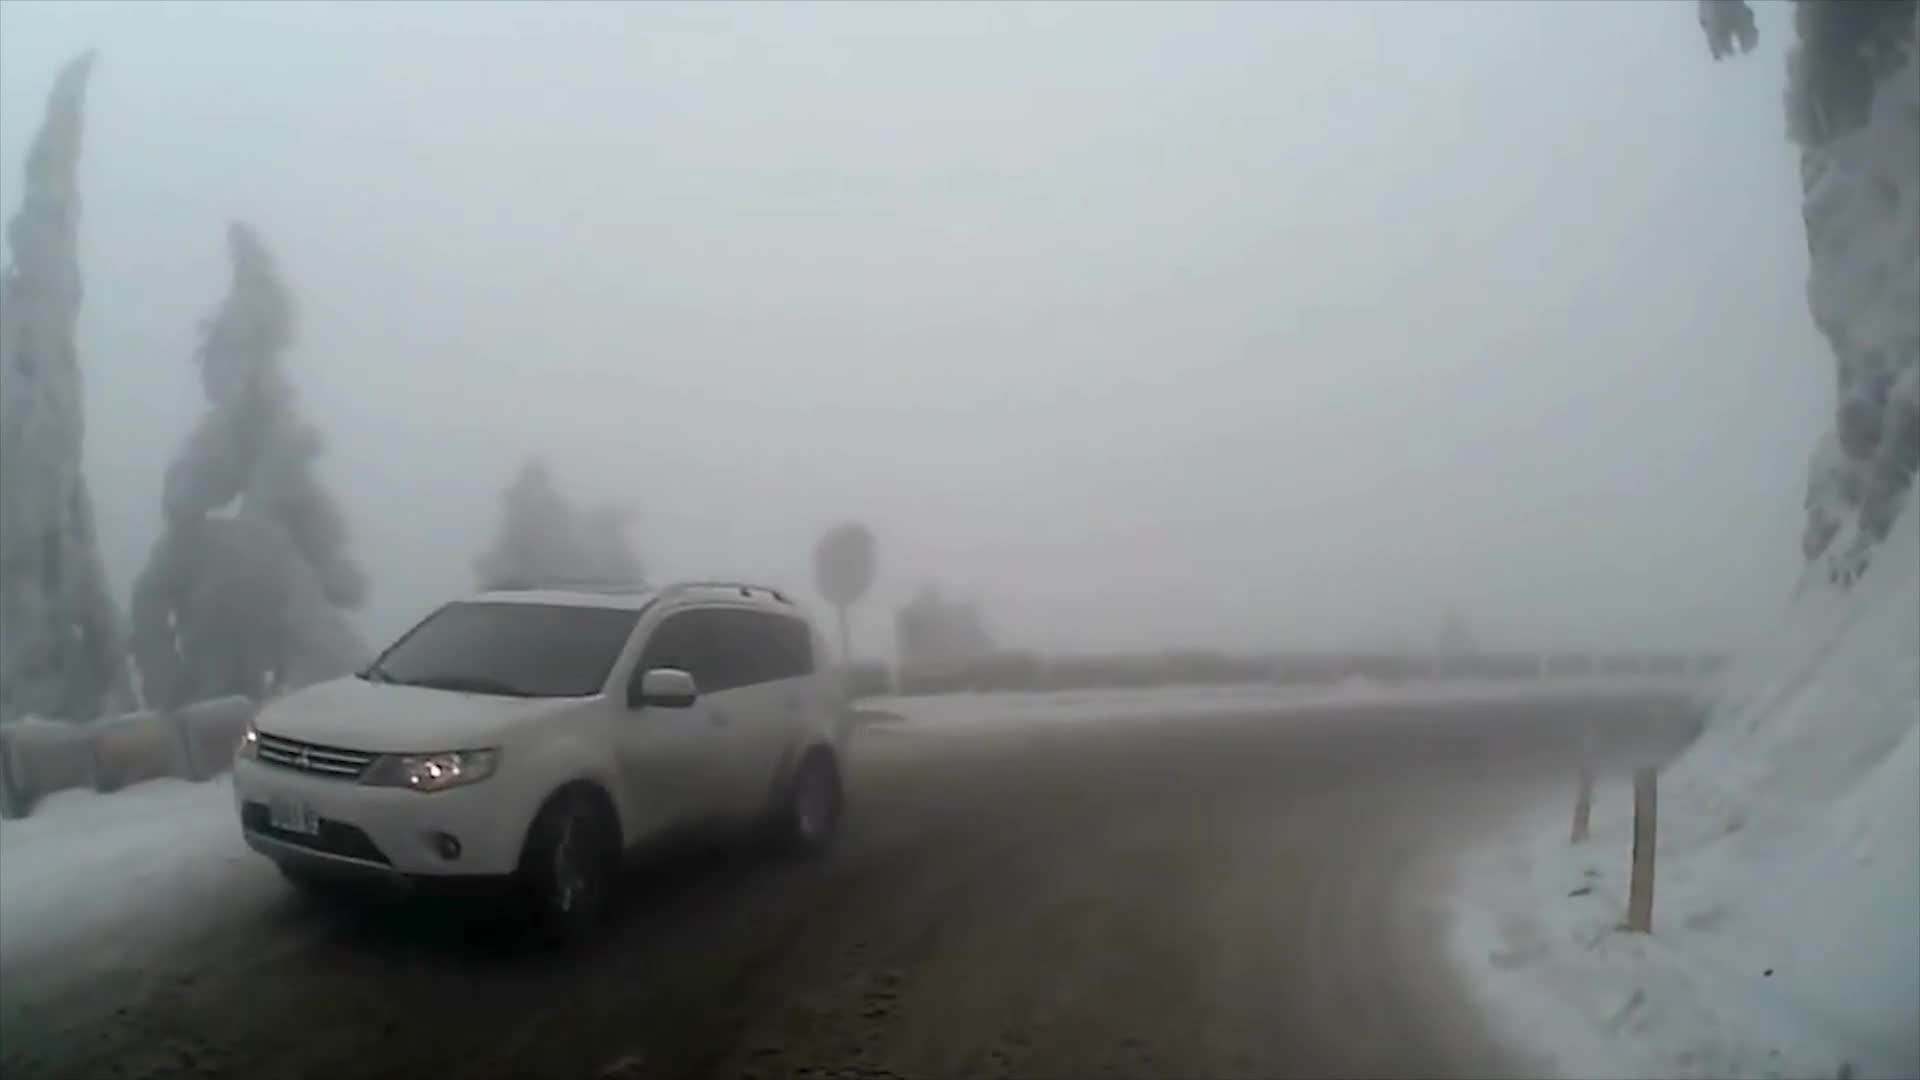vehicle: (227, 574, 849, 945)
